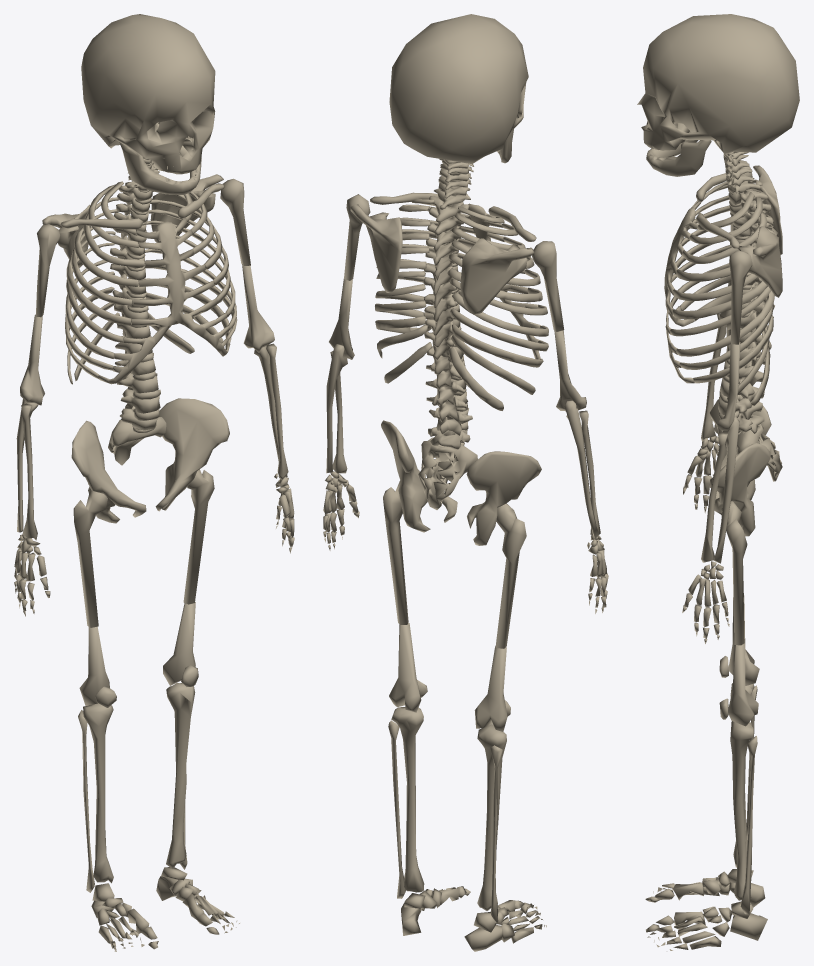
The model's file is pediatric_child_5y_female.skeletal.LOD3.glb.
3 renders of one model, left to right at view 1: azimuth 30°, elevation 25°; view 2: azimuth 150°, elevation 25°; view 3: azimuth 270°, elevation 25°, orthographic.
Parts seen in each view (by area): view 1: PEDIATRIC.CHILD_5Y.FEMALE.SKELETAL.CRANIUM_CORTICAL, PEDIATRIC.CHILD_5Y.FEMALE.SKELETAL.RIBS_CORTICAL, PEDIATRIC.CHILD_5Y.FEMALE.SKELETAL.PELVIS_CORTICAL, PEDIATRIC.CHILD_5Y.FEMALE.SKELETAL.CARTILAGE_TRUNK, PEDIATRIC.CHILD_5Y.FEMALE.SKELETAL.TIBIAE_CORTICAL, PEDIATRIC.CHILD_5Y.FEMALE.SKELETAL.ANKLES_AND_FOOT_CORTICAL, PEDIATRIC.CHILD_5Y.FEMALE.SKELETAL.FEMORA_UPPER_CORTICAL, PEDIATRIC.CHILD_5Y.FEMALE.SKELETAL.THORACIC_SPINE_CORTICAL, PEDIATRIC.CHILD_5Y.FEMALE.SKELETAL.FEMORA_LOWER_CORTICAL, PEDIATRIC.CHILD_5Y.FEMALE.SKELETAL.HUMERI_LOWER_CORTICAL, PEDIATRIC.CHILD_5Y.FEMALE.SKELETAL.HUMERI_UPPER_CORTICAL, PEDIATRIC.CHILD_5Y.FEMALE.SKELETAL.WRISTS_AND_HAND_BONES_COR (+9 smaller); view 2: PEDIATRIC.CHILD_5Y.FEMALE.SKELETAL.CRANIUM_CORTICAL, PEDIATRIC.CHILD_5Y.FEMALE.SKELETAL.RIBS_CORTICAL, PEDIATRIC.CHILD_5Y.FEMALE.SKELETAL.PELVIS_CORTICAL, PEDIATRIC.CHILD_5Y.FEMALE.SKELETAL.SCAPULAE_CORTICAL, PEDIATRIC.CHILD_5Y.FEMALE.SKELETAL.TIBIAE_CORTICAL, PEDIATRIC.CHILD_5Y.FEMALE.SKELETAL.THORACIC_SPINE_CORTICAL, PEDIATRIC.CHILD_5Y.FEMALE.SKELETAL.FEMORA_UPPER_CORTICAL, PEDIATRIC.CHILD_5Y.FEMALE.SKELETAL.ANKLES_AND_FOOT_CORTICAL, PEDIATRIC.CHILD_5Y.FEMALE.SKELETAL.FEMORA_LOWER_CORTICAL, PEDIATRIC.CHILD_5Y.FEMALE.SKELETAL.LUMBAR_SPINE_CORTICAL, PEDIATRIC.CHILD_5Y.FEMALE.SKELETAL.WRISTS_AND_HAND_BONES_COR, PEDIATRIC.CHILD_5Y.FEMALE.SKELETAL.SACRUM_CORTICAL (+8 smaller); view 3: PEDIATRIC.CHILD_5Y.FEMALE.SKELETAL.CRANIUM_CORTICAL, PEDIATRIC.CHILD_5Y.FEMALE.SKELETAL.RIBS_CORTICAL, PEDIATRIC.CHILD_5Y.FEMALE.SKELETAL.ANKLES_AND_FOOT_CORTICAL, PEDIATRIC.CHILD_5Y.FEMALE.SKELETAL.WRISTS_AND_HAND_BONES_COR, PEDIATRIC.CHILD_5Y.FEMALE.SKELETAL.PELVIS_CORTICAL, PEDIATRIC.CHILD_5Y.FEMALE.SKELETAL.SCAPULAE_CORTICAL, PEDIATRIC.CHILD_5Y.FEMALE.SKELETAL.TIBIAE_CORTICAL, PEDIATRIC.CHILD_5Y.FEMALE.SKELETAL.CARTILAGE_TRUNK, PEDIATRIC.CHILD_5Y.FEMALE.SKELETAL.FEMORA_LOWER_CORTICAL, PEDIATRIC.CHILD_5Y.FEMALE.SKELETAL.RADII_CORTICAL, PEDIATRIC.CHILD_5Y.FEMALE.SKELETAL.LUMBAR_SPINE_CORTICAL, PEDIATRIC.CHILD_5Y.FEMALE.SKELETAL.FEMORA_UPPER_CORTICAL (+9 smaller).
Boxes of the visible parts, bbox=[...] form: PEDIATRIC.CHILD_5Y.FEMALE.SKELETAL.CRANIUM_CORTICAL: bbox=[81, 14, 215, 174]; PEDIATRIC.CHILD_5Y.FEMALE.SKELETAL.RIBS_CORTICAL: bbox=[65, 181, 237, 384]; PEDIATRIC.CHILD_5Y.FEMALE.SKELETAL.PELVIS_CORTICAL: bbox=[71, 398, 229, 523]; PEDIATRIC.CHILD_5Y.FEMALE.SKELETAL.CARTILAGE_TRUNK: bbox=[98, 158, 230, 432]; PEDIATRIC.CHILD_5Y.FEMALE.SKELETAL.TIBIAE_CORTICAL: bbox=[83, 683, 195, 883]; PEDIATRIC.CHILD_5Y.FEMALE.SKELETAL.ANKLES_AND_FOOT_CORTICAL: bbox=[91, 867, 239, 951]; PEDIATRIC.CHILD_5Y.FEMALE.SKELETAL.FEMORA_UPPER_CORTICAL: bbox=[73, 469, 214, 627]; PEDIATRIC.CHILD_5Y.FEMALE.SKELETAL.THORACIC_SPINE_CORTICAL: bbox=[110, 182, 152, 338]; PEDIATRIC.CHILD_5Y.FEMALE.SKELETAL.FEMORA_LOWER_CORTICAL: bbox=[79, 602, 195, 705]; PEDIATRIC.CHILD_5Y.FEMALE.SKELETAL.HUMERI_LOWER_CORTICAL: bbox=[20, 264, 274, 405]; PEDIATRIC.CHILD_5Y.FEMALE.SKELETAL.HUMERI_UPPER_CORTICAL: bbox=[36, 178, 250, 317]; PEDIATRIC.CHILD_5Y.FEMALE.SKELETAL.WRISTS_AND_HAND_BONES_COR: bbox=[14, 473, 294, 616]; PEDIATRIC.CHILD_5Y.FEMALE.SKELETAL.CRANIUM_CORTICAL: bbox=[389, 14, 528, 163]; PEDIATRIC.CHILD_5Y.FEMALE.SKELETAL.RIBS_CORTICAL: bbox=[375, 198, 548, 410]; PEDIATRIC.CHILD_5Y.FEMALE.SKELETAL.PELVIS_CORTICAL: bbox=[381, 420, 541, 545]; PEDIATRIC.CHILD_5Y.FEMALE.SKELETAL.SCAPULAE_CORTICAL: bbox=[350, 204, 534, 315]; PEDIATRIC.CHILD_5Y.FEMALE.SKELETAL.TIBIAE_CORTICAL: bbox=[391, 707, 506, 910]; PEDIATRIC.CHILD_5Y.FEMALE.SKELETAL.THORACIC_SPINE_CORTICAL: bbox=[423, 196, 469, 374]; PEDIATRIC.CHILD_5Y.FEMALE.SKELETAL.FEMORA_UPPER_CORTICAL: bbox=[383, 480, 526, 648]; PEDIATRIC.CHILD_5Y.FEMALE.SKELETAL.ANKLES_AND_FOOT_CORTICAL: bbox=[401, 886, 546, 951]; PEDIATRIC.CHILD_5Y.FEMALE.SKELETAL.FEMORA_LOWER_CORTICAL: bbox=[389, 623, 507, 731]; PEDIATRIC.CHILD_5Y.FEMALE.SKELETAL.LUMBAR_SPINE_CORTICAL: bbox=[425, 360, 472, 449]; PEDIATRIC.CHILD_5Y.FEMALE.SKELETAL.WRISTS_AND_HAND_BONES_COR: bbox=[323, 471, 608, 613]; PEDIATRIC.CHILD_5Y.FEMALE.SKELETAL.SACRUM_CORTICAL: bbox=[418, 437, 477, 509]; PEDIATRIC.CHILD_5Y.FEMALE.SKELETAL.CRANIUM_CORTICAL: bbox=[637, 14, 799, 154]; PEDIATRIC.CHILD_5Y.FEMALE.SKELETAL.RIBS_CORTICAL: bbox=[670, 179, 777, 405]; PEDIATRIC.CHILD_5Y.FEMALE.SKELETAL.ANKLES_AND_FOOT_CORTICAL: bbox=[645, 869, 767, 950]; PEDIATRIC.CHILD_5Y.FEMALE.SKELETAL.WRISTS_AND_HAND_BONES_COR: bbox=[682, 436, 729, 643]; PEDIATRIC.CHILD_5Y.FEMALE.SKELETAL.PELVIS_CORTICAL: bbox=[709, 399, 771, 536]; PEDIATRIC.CHILD_5Y.FEMALE.SKELETAL.SCAPULAE_CORTICAL: bbox=[737, 165, 782, 297]; PEDIATRIC.CHILD_5Y.FEMALE.SKELETAL.TIBIAE_CORTICAL: bbox=[730, 683, 754, 900]; PEDIATRIC.CHILD_5Y.FEMALE.SKELETAL.CARTILAGE_TRUNK: bbox=[664, 155, 751, 434]; PEDIATRIC.CHILD_5Y.FEMALE.SKELETAL.FEMORA_LOWER_CORTICAL: bbox=[728, 595, 759, 726]; PEDIATRIC.CHILD_5Y.FEMALE.SKELETAL.RADII_CORTICAL: bbox=[701, 313, 727, 562]; PEDIATRIC.CHILD_5Y.FEMALE.SKELETAL.LUMBAR_SPINE_CORTICAL: bbox=[718, 342, 765, 433]; PEDIATRIC.CHILD_5Y.FEMALE.SKELETAL.FEMORA_UPPER_CORTICAL: bbox=[721, 501, 747, 645].
Bounding box in the file's own units: 0.3468 × 1.09 × 0.1776.
